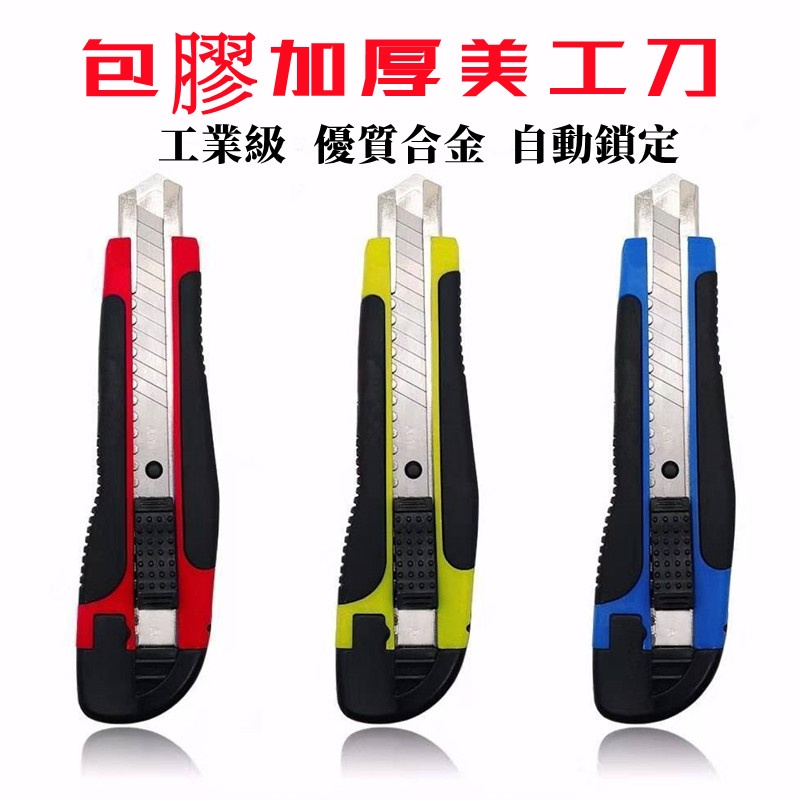cutter: (332, 171, 480, 724), (74, 175, 222, 727), (591, 174, 739, 726)
